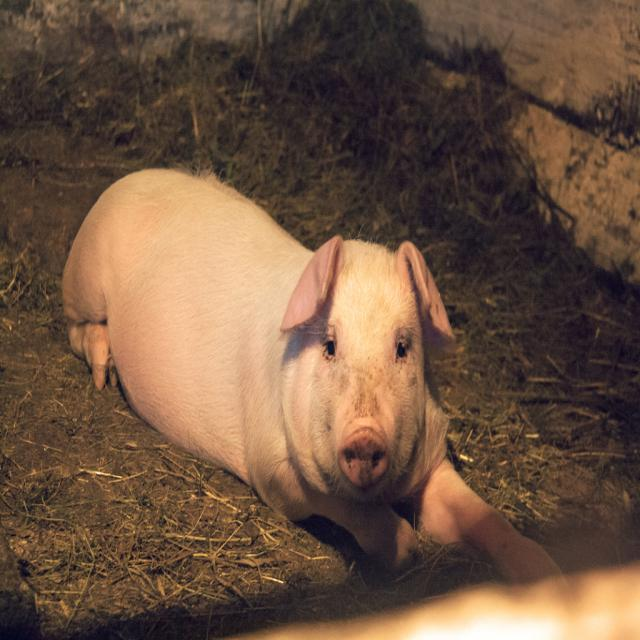Pig: (60, 164, 571, 594)
